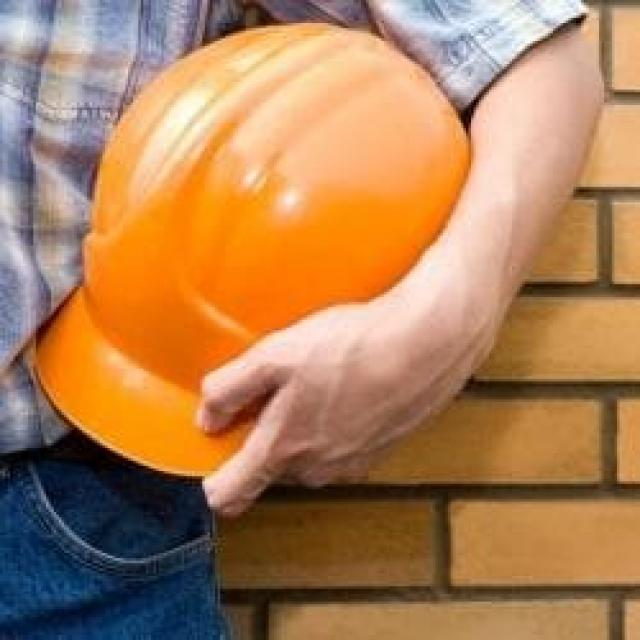Reflective-Jacket: (5, 0, 640, 504)
Safety-Helmet: (18, 15, 527, 471)
